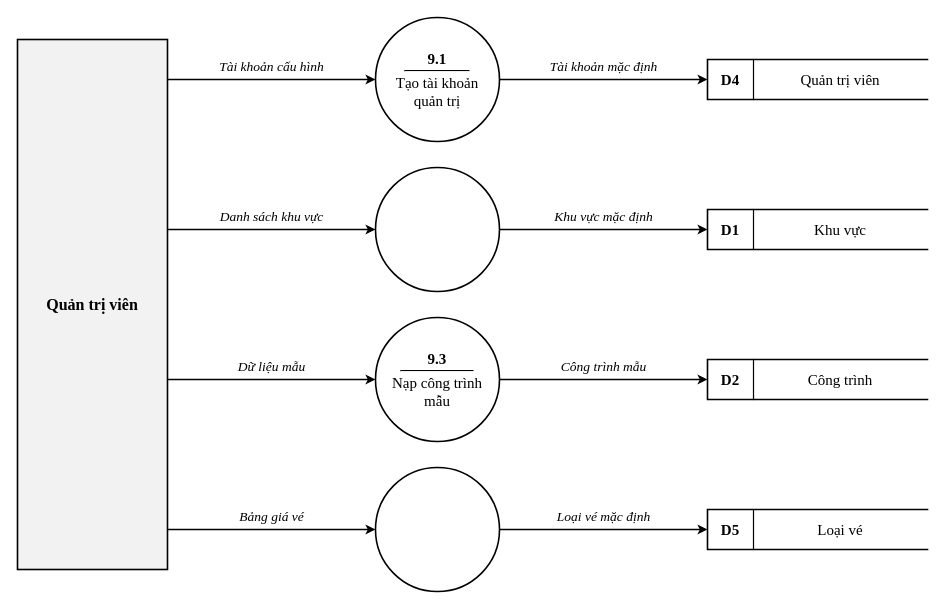
The diagram is 946 pixels wide and 610 high, and some of its shapes have lost their labels. The box of each missing label's shape, as (x1, y1, x2, y2) in pixels:
9.2 Tạo khu vực mặc định: (374, 166, 500, 292)
9.4 Tạo loại vé mặc định: (374, 466, 500, 592)
